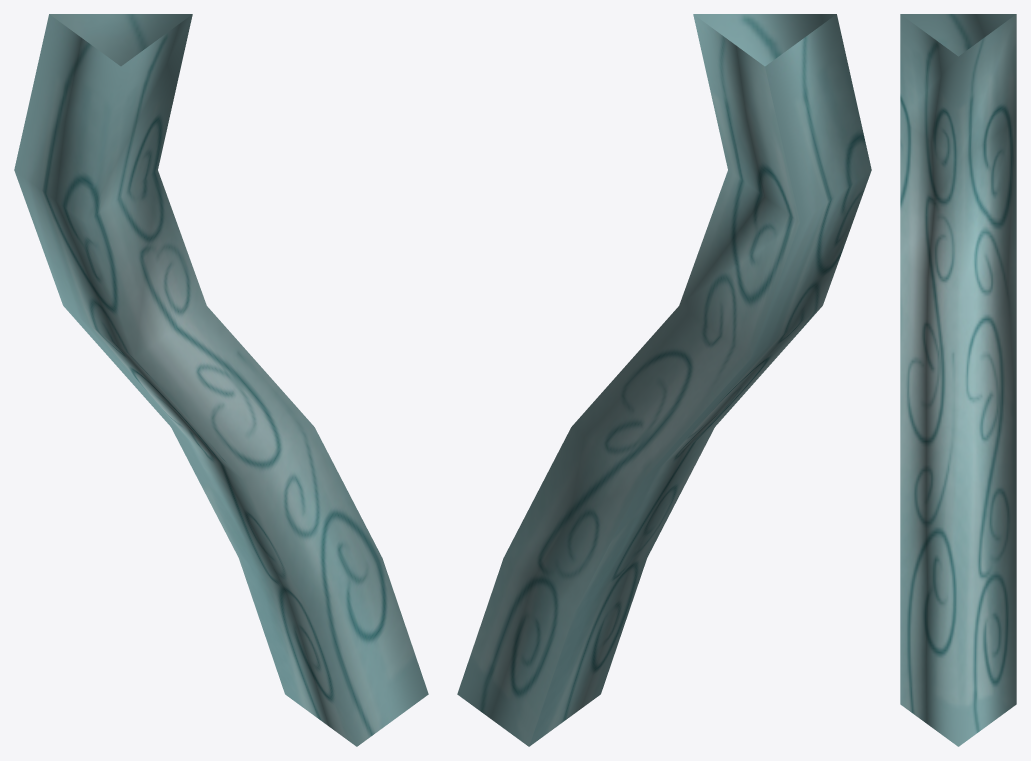
Rendered from champ_queue_02.FBX.
The picture shows the model from 3 angles, left to right: view 1: azimuth 30°, elevation 25°; view 2: azimuth 150°, elevation 25°; view 3: azimuth 270°, elevation 25°; orthographic projection. The views are drawn at different scales.
Visible parts, largest first — view 1: Object006; view 2: Object006; view 3: Object006.
Part boxes in pixels (box(x1,y1,x2,y2)): Object006: box(14, 14, 428, 746); Object006: box(457, 14, 871, 746); Object006: box(900, 14, 1016, 746).
Bounding box in the file's own units: 21.72 × 40.45 × 7.14.
